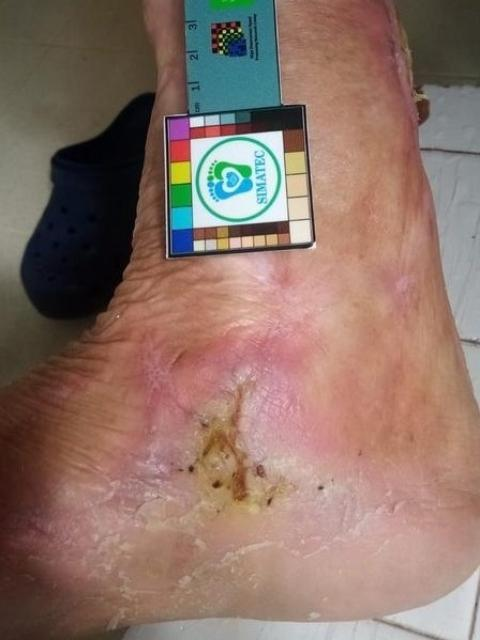wound: (180, 371, 312, 514)
